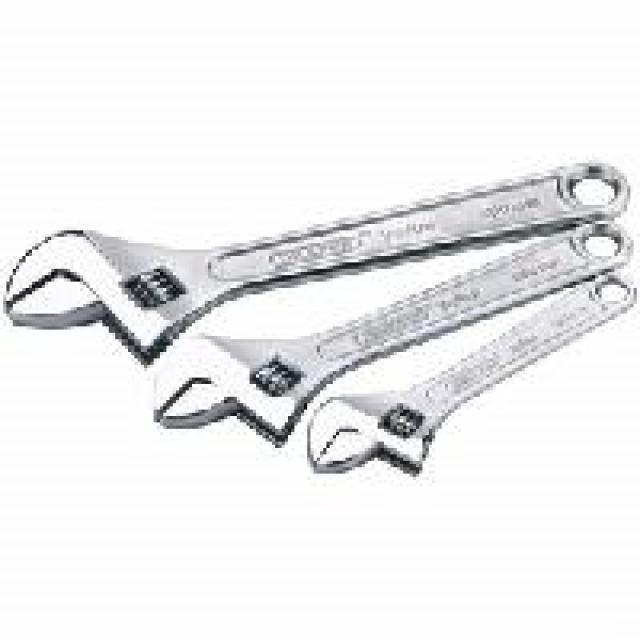wrench: (0, 157, 638, 360), (147, 221, 631, 456), (312, 274, 636, 486)
